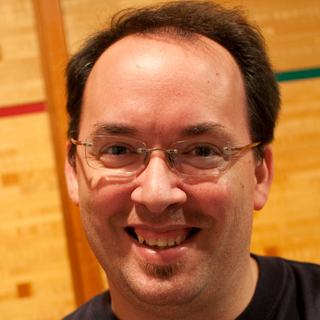eye: (178, 141, 227, 164), (98, 140, 143, 163)
